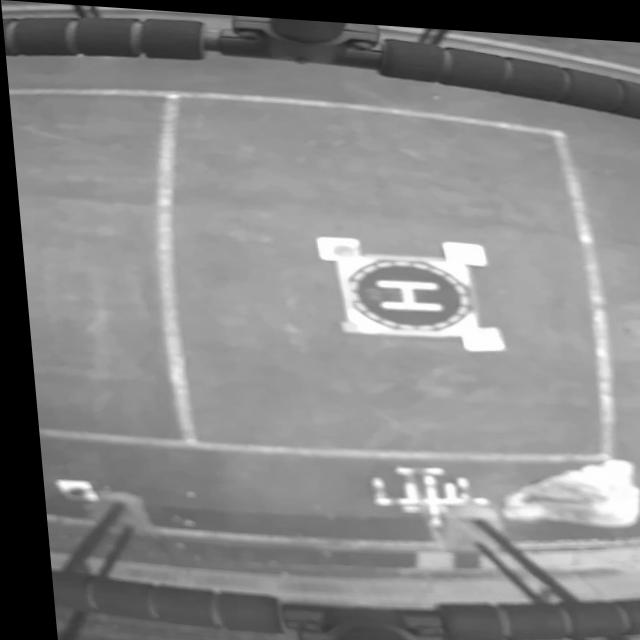Helipad: (367, 275, 436, 306)
